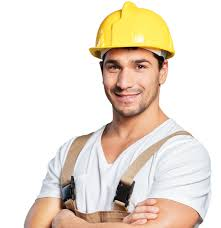hard hat: (88, 1, 175, 58)
